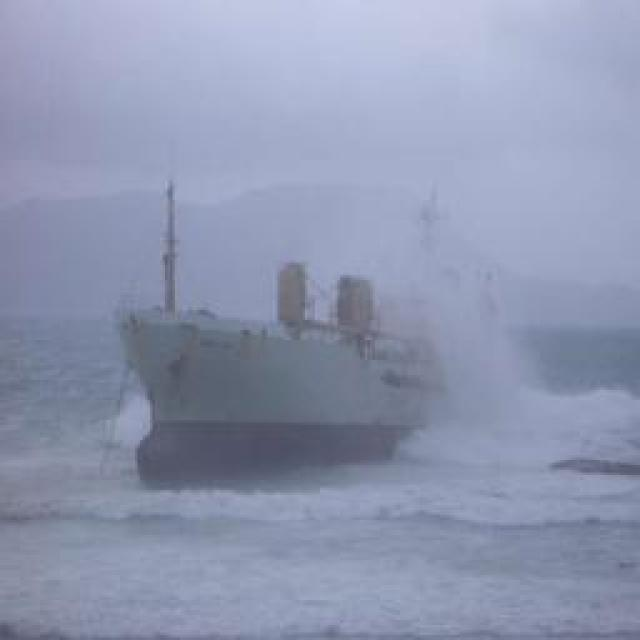CIV_Ship: (125, 262, 428, 468)
